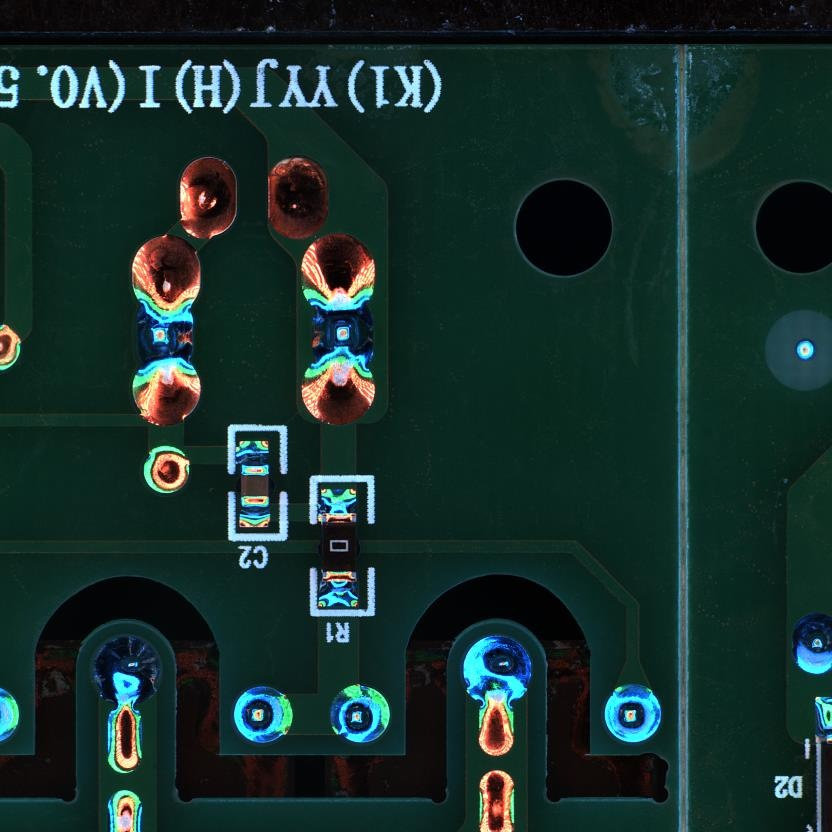spot: (457, 633, 535, 709), (127, 299, 200, 375), (304, 298, 377, 370), (87, 635, 159, 708), (232, 684, 295, 747), (328, 682, 391, 744), (602, 681, 663, 745), (792, 612, 832, 680)
